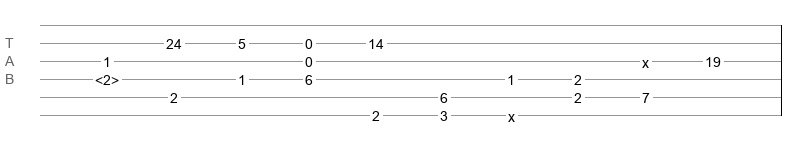0: (305, 36, 313, 46), (305, 54, 313, 64)
1: (103, 54, 111, 64), (238, 72, 246, 82), (507, 72, 515, 82)
14: (368, 36, 384, 46)
19: (705, 54, 721, 64)
2: (170, 90, 178, 100), (372, 108, 380, 118), (574, 72, 582, 82), (574, 90, 582, 100)
24: (166, 36, 182, 46)
3: (440, 108, 448, 118)
5: (238, 36, 246, 46)
6: (305, 72, 313, 82), (440, 90, 448, 100)
7: (642, 90, 650, 100)
harmonic: (95, 72, 119, 82)
x: (508, 109, 515, 117), (642, 55, 649, 63)
